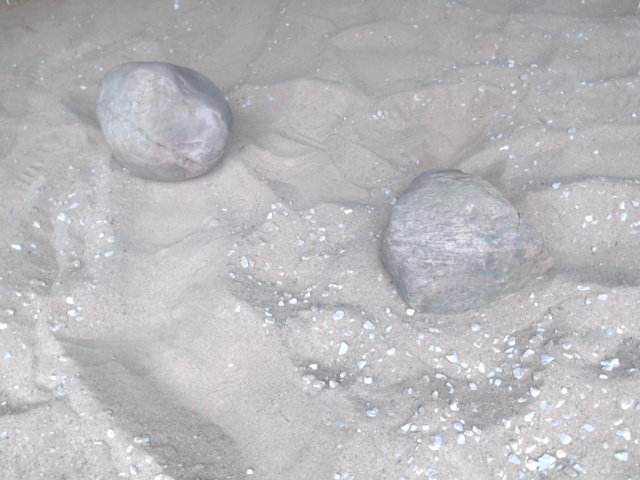rock: (374, 160, 559, 320), (91, 58, 237, 189)
